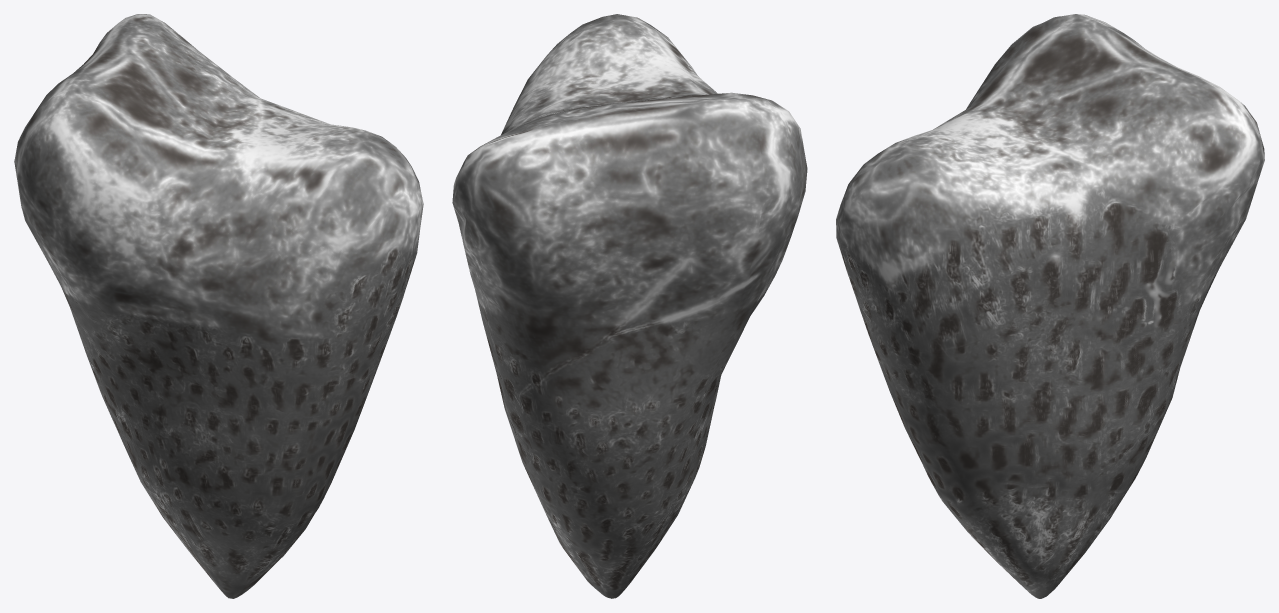
File: meteor.fbx
3 renders of one model, left to right at view 1: azimuth 30°, elevation 25°; view 2: azimuth 150°, elevation 25°; view 3: azimuth 270°, elevation 25°, orthographic. The views are drawn at different scales.
Parts seen in each view (by area): view 1: meteorLP:Group27502; view 2: meteorLP:Group27502; view 3: meteorLP:Group27502.
Part boxes in pixels (x1,y1,x2,y2): meteorLP:Group27502: (14,14,423,598); meteorLP:Group27502: (452,14,807,598); meteorLP:Group27502: (836,14,1264,598).
Bounding box in the file's own units: 2.7 × 4.38 × 3.3.
Materials: 1 (1 with a texture image).
